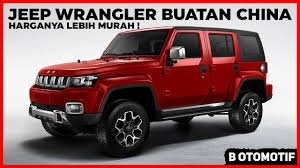mobil: (34, 29, 282, 149)
